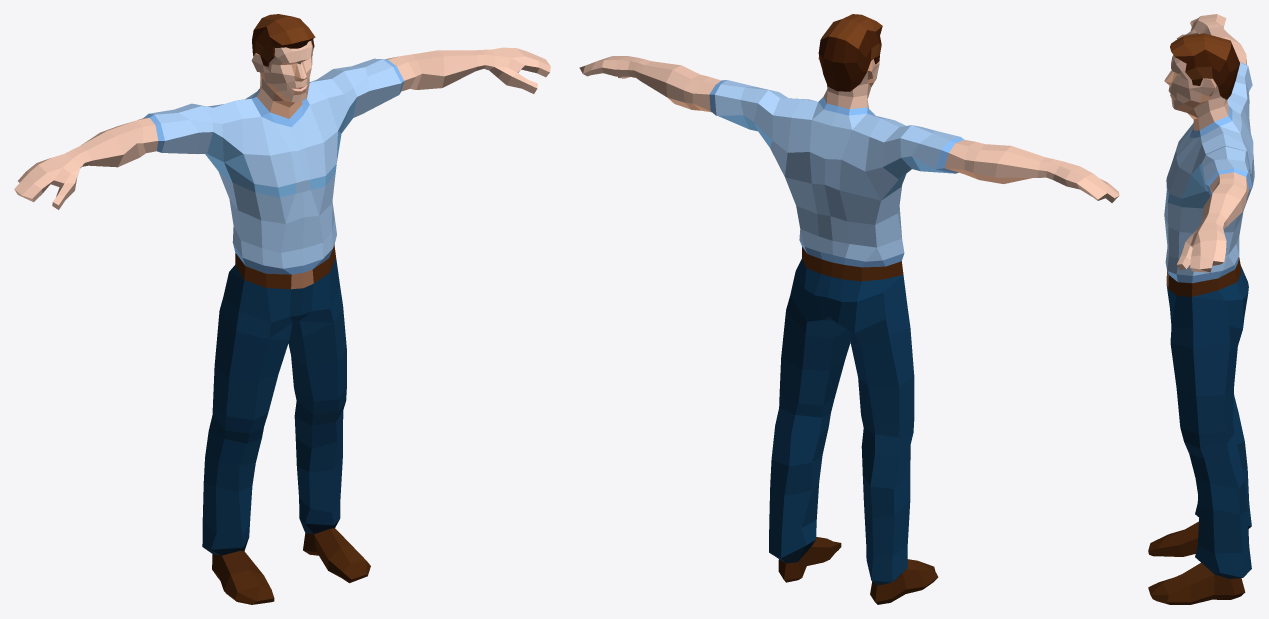
File: Steve_(Steroid).fbx
The picture shows the model from 3 angles, left to right: view 1: azimuth 30°, elevation 25°; view 2: azimuth 150°, elevation 25°; view 3: azimuth 270°, elevation 25°; orthographic projection. The views are drawn at different scales.
Parts seen in each view (by area): view 1: lpMale_casual_A; view 2: lpMale_casual_A; view 3: lpMale_casual_A.
Part boxes in pixels (x1,y1,x2,y2): lpMale_casual_A: [14, 14, 550, 604]; lpMale_casual_A: [579, 14, 1119, 604]; lpMale_casual_A: [1148, 14, 1254, 604].
Size of the model in its own units: 175 by 175 by 31.39.
